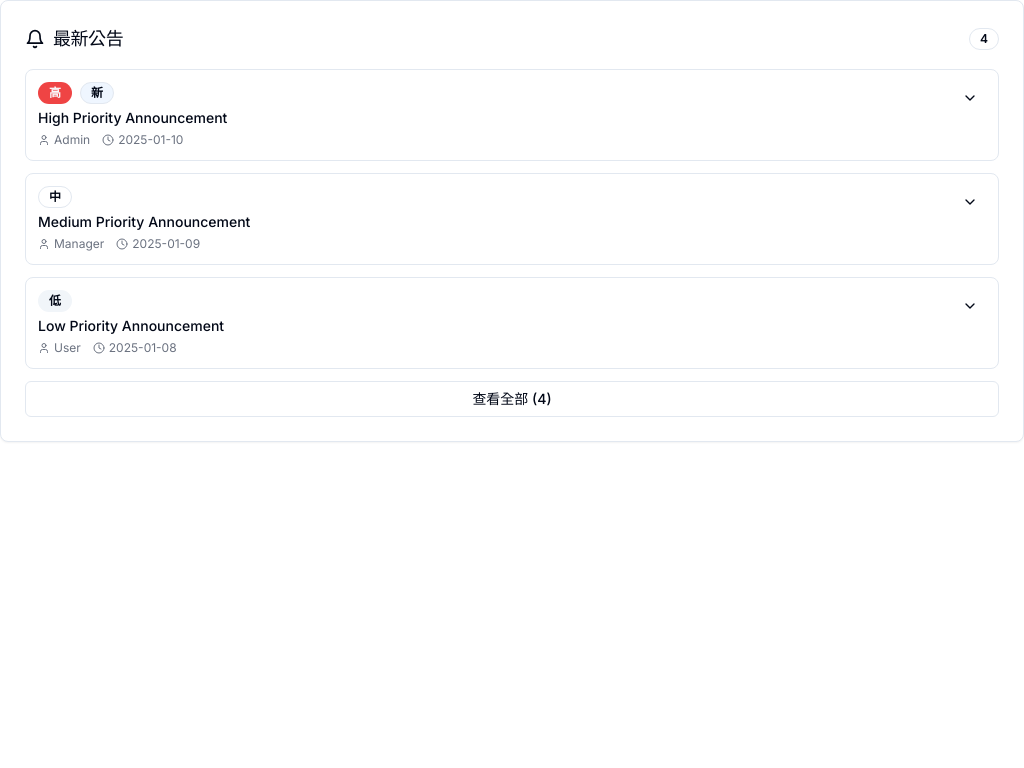
Test: AnnouncementPanel › expands to show all announcements when "View All" is clicked
Click the button "查看全部 (4)".
click(512, 399)  # box [25, 381, 999, 417]
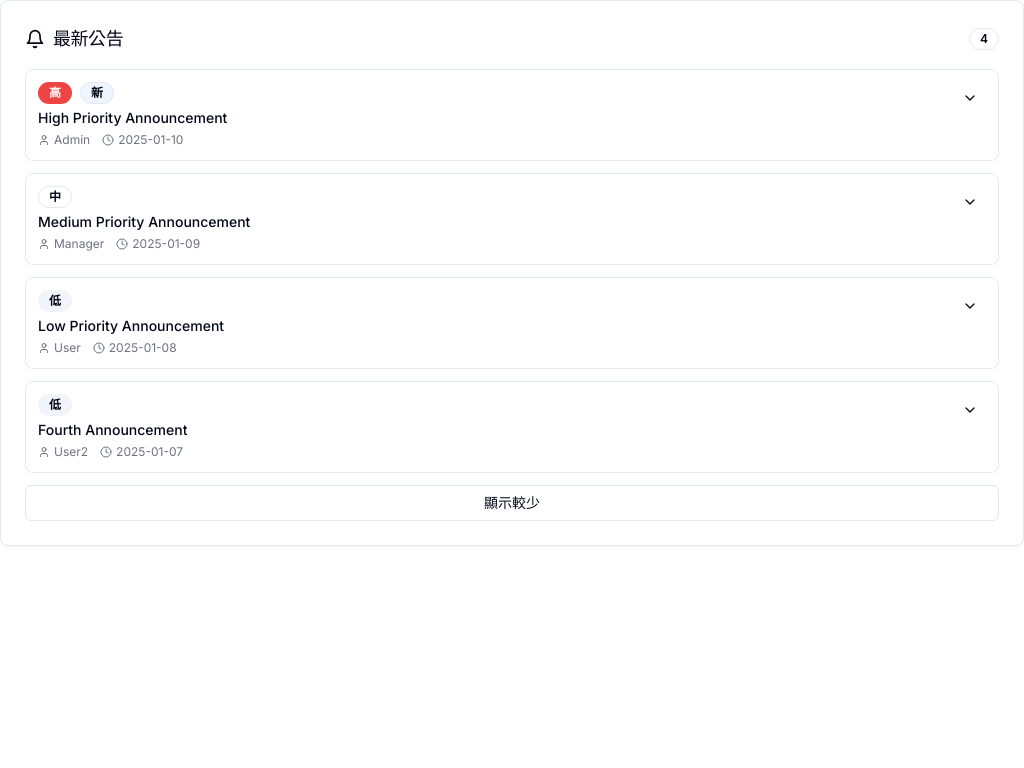
Expected: the heading "Fourth Announcement" is shown, [38, 421, 187, 438]
Expected: the button "顯示較少" is shown, [25, 485, 999, 521]
